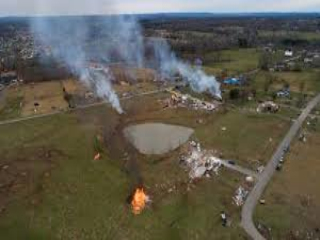fire: (119, 183, 167, 216), (89, 151, 105, 166)
smoke: (121, 21, 226, 109), (38, 27, 129, 123)
